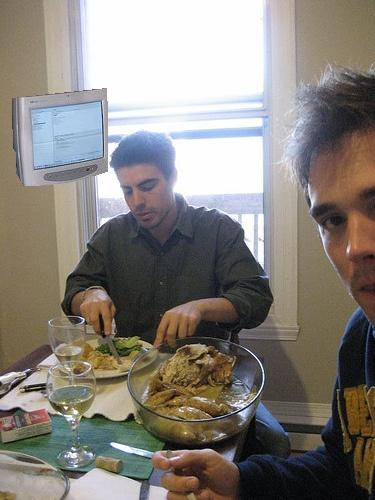tampered: (13, 89, 108, 186)
